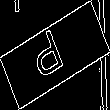P_SE: (34, 24, 76, 86)
